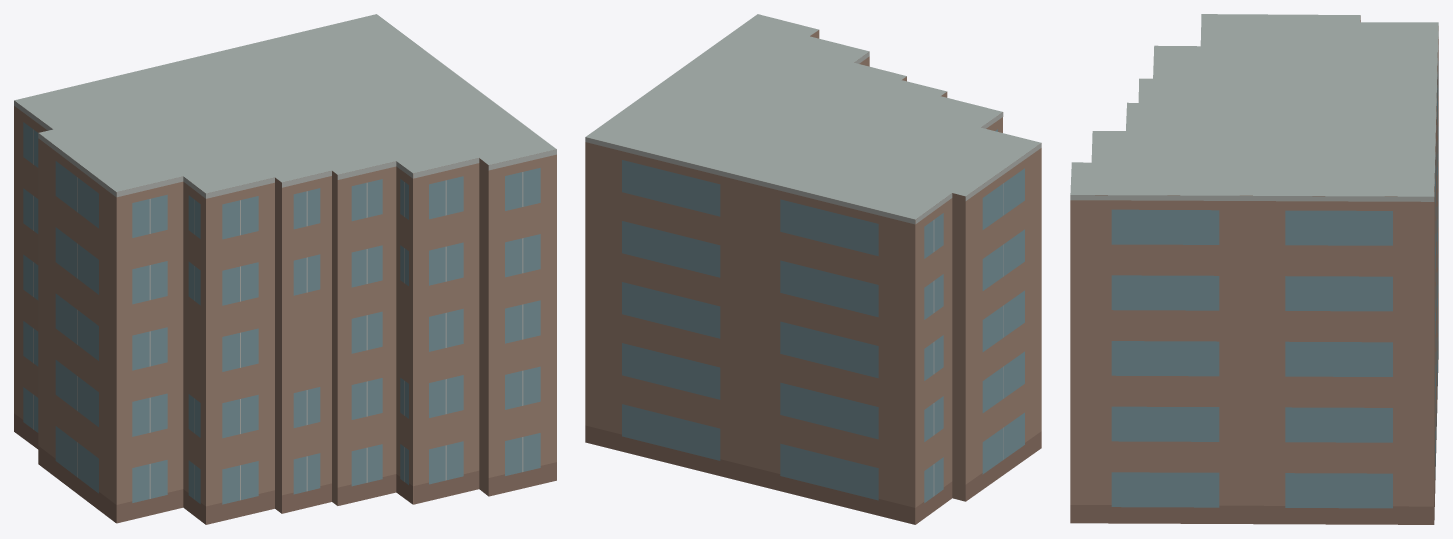
Rendered from survey-upis-32752287.glb.
3 views of the same model, side by side, from view 1: azimuth 30°, elevation 25°; view 2: azimuth 150°, elevation 25°; view 3: azimuth 270°, elevation 25° (orthographic). The views are drawn at different scales.
Visible parts, largest first — view 1: survey-upis-32752287.tmp; view 2: survey-upis-32752287.tmp; view 3: survey-upis-32752287.tmp.
Part boxes in pixels (x1,y1,x2,y2): survey-upis-32752287.tmp: (14, 14, 556, 524); survey-upis-32752287.tmp: (585, 14, 1041, 524); survey-upis-32752287.tmp: (1070, 14, 1438, 524).
Bounding box in the file's own units: 18.2 × 15.25 × 15.51.
